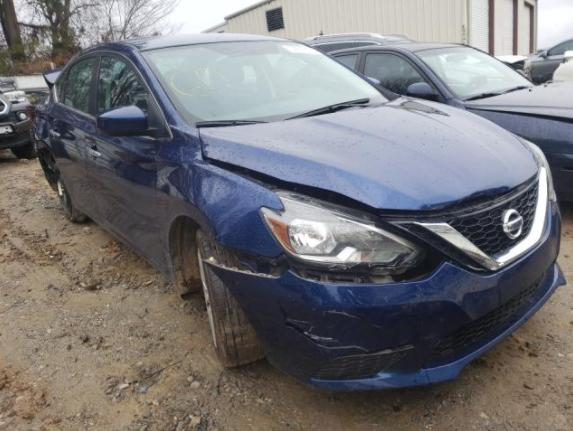Back-door: (46, 46, 101, 218)
Back-wheel: (53, 162, 87, 222)
Back-window: (62, 50, 99, 115), (55, 70, 67, 101)
Fender: (154, 108, 285, 295)
Front-bumper: (203, 202, 568, 391)
Front-door: (83, 47, 175, 259)
Front-wheel: (194, 226, 267, 368)
Front-window: (95, 53, 150, 135)
Grille: (377, 166, 550, 275)
Headlight: (257, 191, 424, 276), (527, 140, 556, 202)
Hood: (198, 96, 541, 210)
Mirror: (96, 93, 171, 138)
Quarter-panel: (29, 90, 57, 190)
Rocker-panel: (71, 198, 174, 283)
Trunk: (40, 67, 63, 93)
Windshield: (138, 40, 401, 127)
